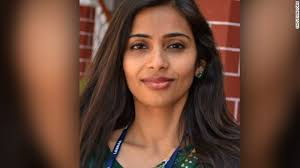indian_female: (113, 1, 226, 105)
